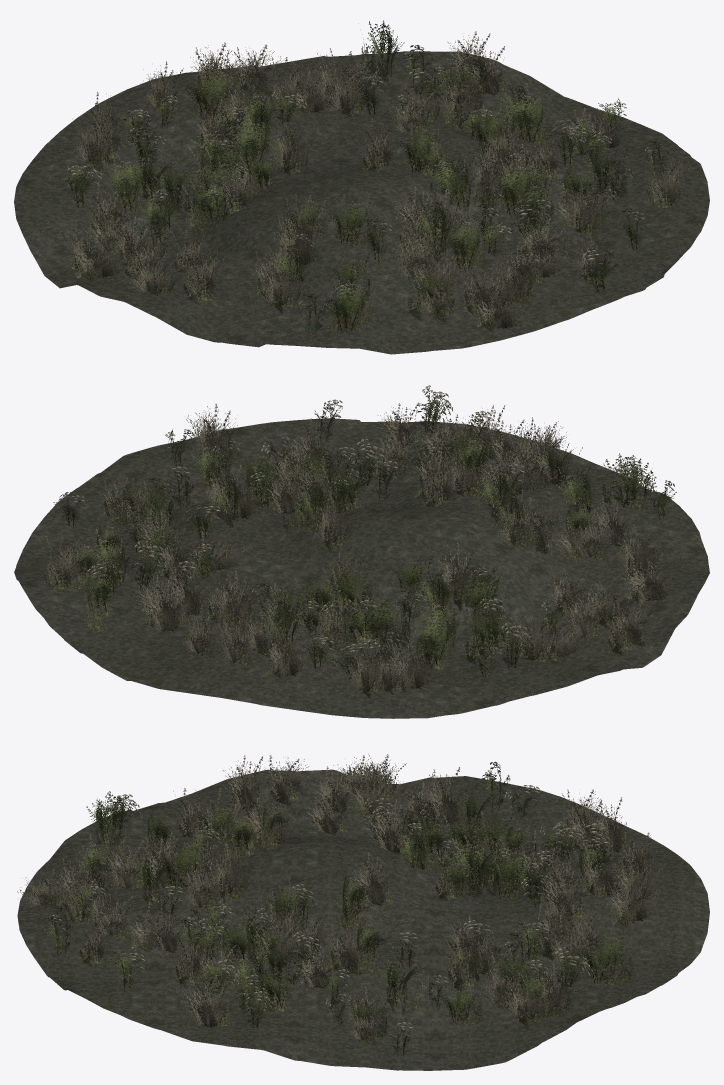
Rendered from mg_9_soil_1.fbx.
3 renders of one model, top to bottom at view 1: azimuth 30°, elevation 25°; view 2: azimuth 150°, elevation 25°; view 3: azimuth 270°, elevation 25°, orthographic.
Visible parts, largest first — view 1: mg_9_soil_1; view 2: mg_9_soil_1; view 3: mg_9_soil_1.
Part boxes in pixels (<box>): mg_9_soil_1: <box>14,20,709,354</box>; mg_9_soil_1: <box>14,385,709,718</box>; mg_9_soil_1: <box>17,753,709,1070</box>.
Bounding box in the file's own units: 1625 × 245 × 1637.
